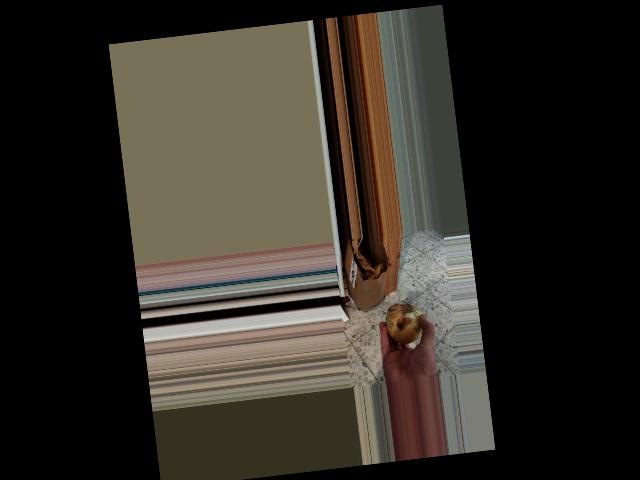onion: (384, 299, 429, 350)
